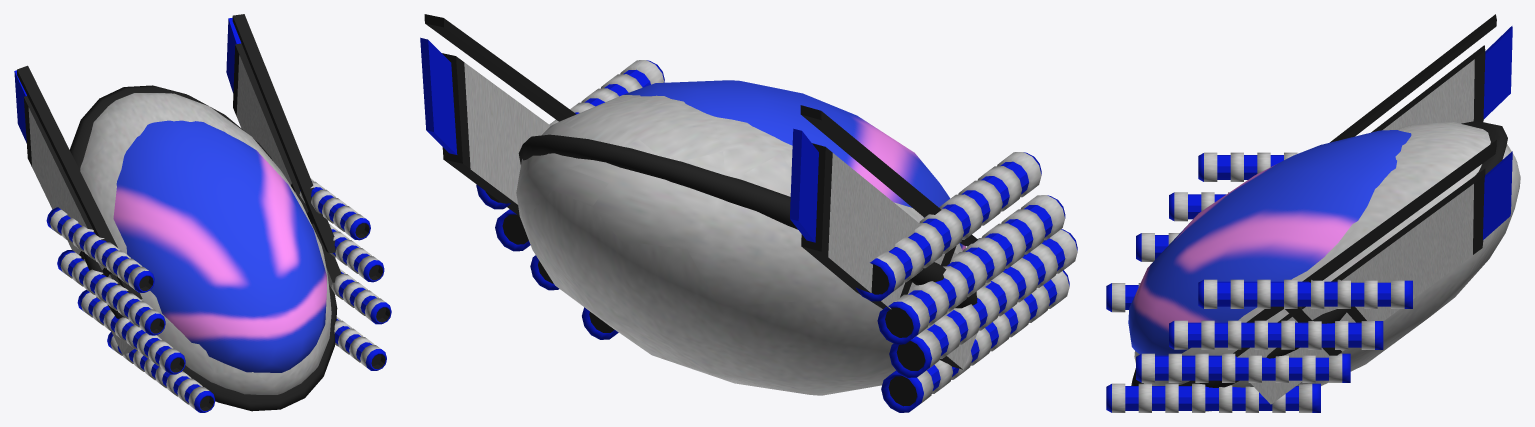
The model's file is pinkyS1.fbx.
3 renders of one model, left to right at view 1: azimuth 30°, elevation 25°; view 2: azimuth 150°, elevation 25°; view 3: azimuth 270°, elevation 25°, orthographic. The views are drawn at different scales.
Parts seen in each view (by area): view 1: Screen, Body, Ears, Weapon1, Weapon2, Weapon3, Weapon4; view 2: Body, Ears, Weapon1, Screen, Weapon2, Weapon3, Weapon4; view 3: Screen, Ears, Body, Weapon1, Weapon2, Weapon3, Weapon4.
Boxes of the visible parts, x1,y1,x2,y2 form: Screen: (113,120,326,372); Body: (70,85,337,411); Ears: (14,14,341,354); Weapon1: (46,178,370,292); Weapon2: (57,224,384,335); Weapon3: (77,268,391,374); Weapon4: (107,316,386,412); Body: (516,95,977,395); Ears: (420,14,991,369); Weapon1: (476,60,1041,301); Screen: (623,80,965,250); Weapon2: (495,195,1065,344); Weapon3: (530,229,1077,377); Weapon4: (582,270,1069,412); Screen: (1128,130,1411,355); Ears: (1233,14,1512,404); Body: (1131,121,1520,411); Weapon1: (1198,152,1412,308); Weapon2: (1169,192,1383,349); Weapon3: (1136,233,1350,382); Weapon4: (1106,283,1320,412).
Bounding box in the file's own units: 262 × 276 × 325.
